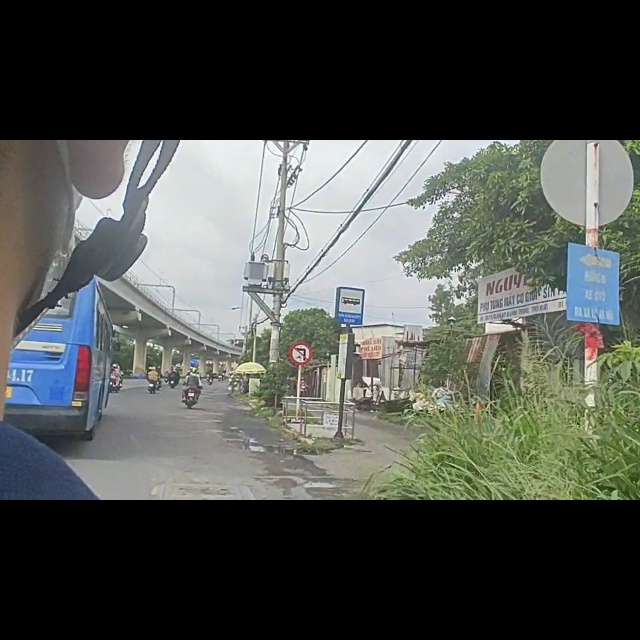bien_cam: (335, 260, 366, 329), (291, 357, 314, 404)
